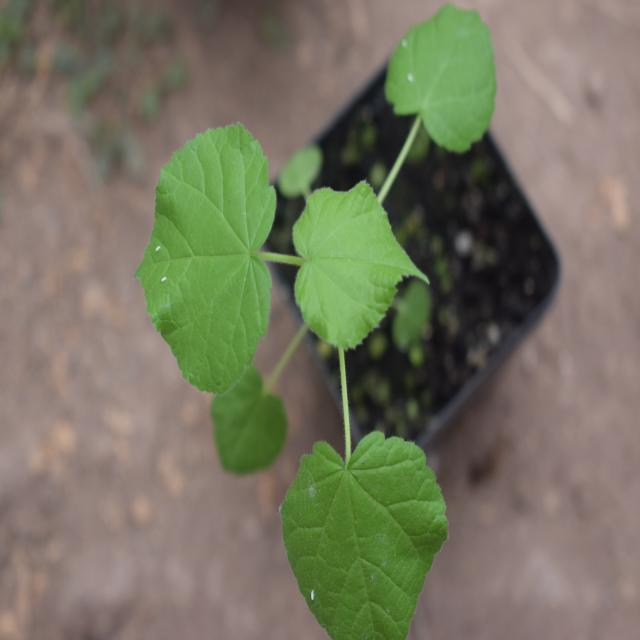abutilon theophrasti: (140, 5, 503, 615)
